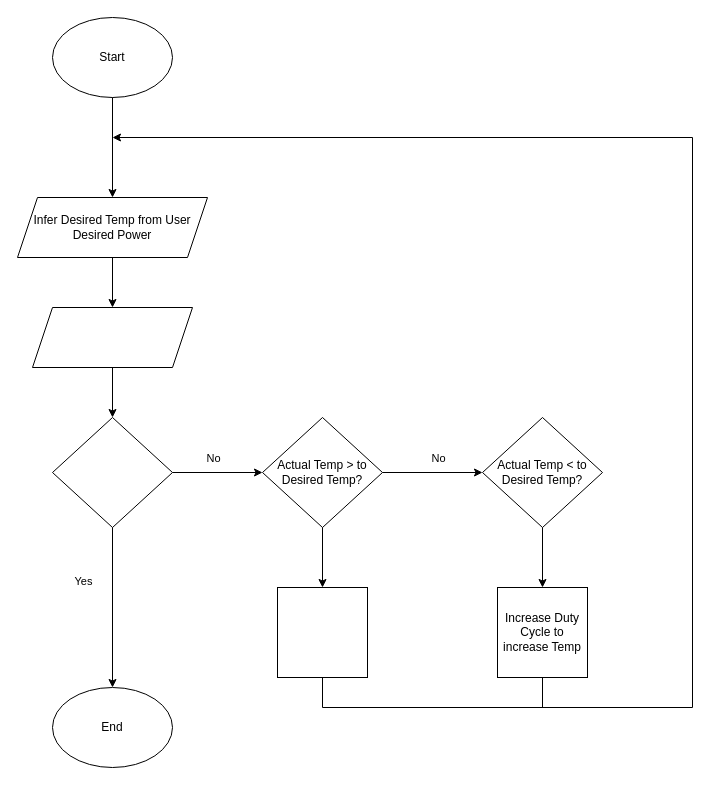
The diagram is 718 pixels wide and 785 high, and some of its shapes have lost their labels. Each missing label, with the centre of its shape:
Actual Temp = to Desired Temp?: pixel 112 472
Decrease Duty Cycle to decrease Temp: pixel 322 632
Read Actual Temp from Thermocouple: pixel 112 337
